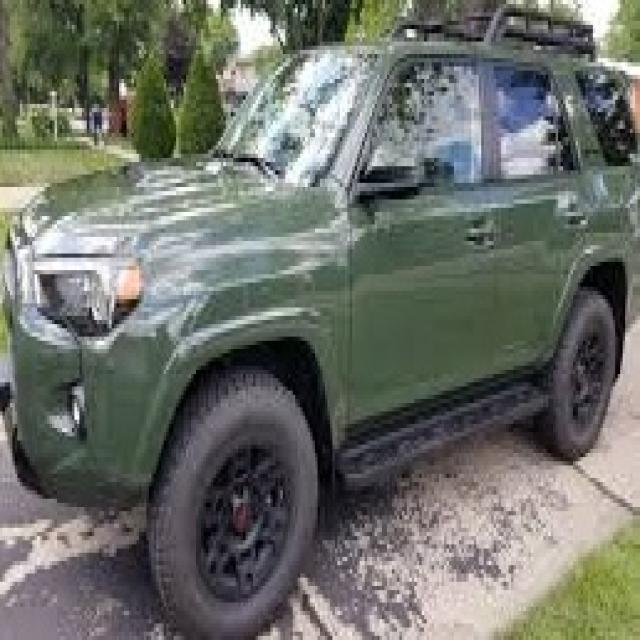green: (10, 29, 640, 511)
